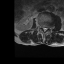CCS_normal: (43, 25, 45, 33)
LFS_severe_stenosis: (48, 25, 50, 30)
LLS_stenosis: (46, 25, 48, 31)
RFS_stenosis: (40, 24, 42, 29)
RLS_stenosis: (42, 25, 43, 31)
